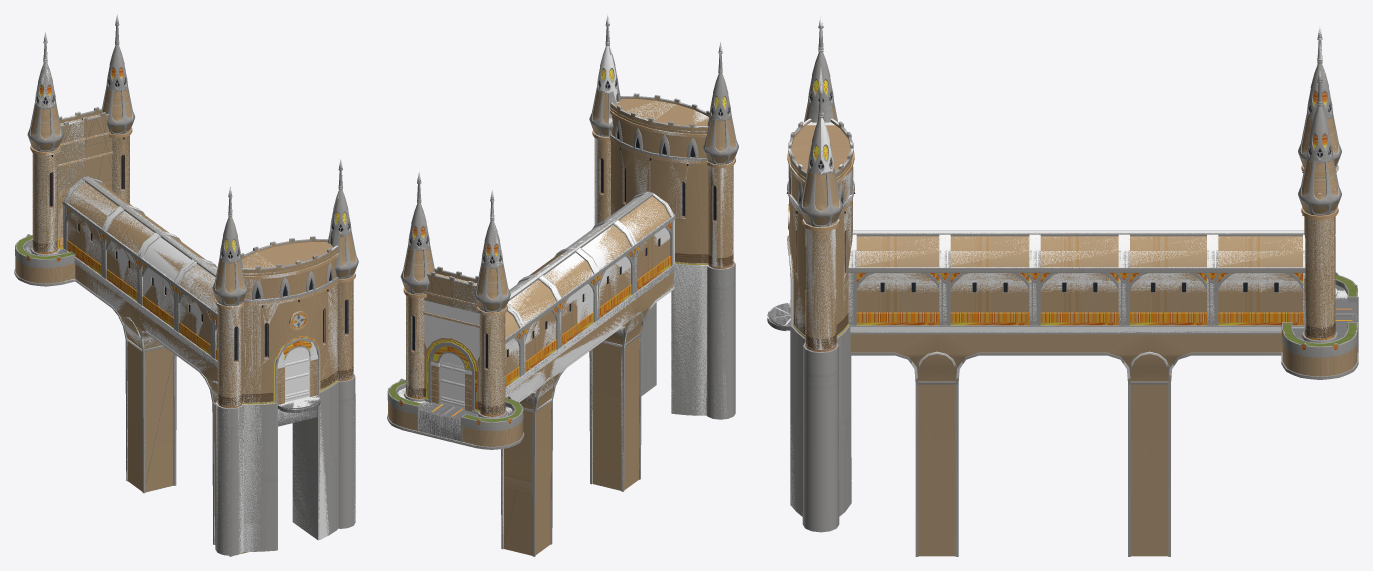
Rendered from objects_un_c01bridgegate02.gltf.
3 renders of one model, left to right at view 1: azimuth 30°, elevation 25°; view 2: azimuth 150°, elevation 25°; view 3: azimuth 270°, elevation 25°, orthographic. The views are drawn at different scales.
Parts seen in each view (by area): view 1: um_objects_un_c01bridgegate02_model_lod0Shape:objects_un_c01 (×7), um_objects_un_c01bridgegate02_model_lod2Shape:objects_un_c01 (×2), um_objects_un_c01bridgegate02_model_lod1Shape:objects_un_c01 (×3); view 2: um_objects_un_c01bridgegate02_model_lod0Shape:objects_un_c01 (×8), um_objects_un_c01bridgegate02_model_lod2Shape:objects_un_c01 (×3), um_objects_un_c01bridgegate02_model_lod1Shape:objects_un_c01 (×4); view 3: um_objects_un_c01bridgegate02_model_lod0Shape:objects_un_c01 (×6), um_objects_un_c01bridgegate02_model_lod2Shape:objects_un_c01 (×2), um_objects_un_c01bridgegate02_model_lod1Shape:objects_un_c01 (×3).
Part boxes in pixels (left/top/right/bottom): um_objects_un_c01bridgegate02_model_lod0Shape:objects_un_c01 (×7): left=14, top=14, right=358, bottom=555; um_objects_un_c01bridgegate02_model_lod2Shape:objects_un_c01 (×2): left=16, top=28, right=350, bottom=556; um_objects_un_c01bridgegate02_model_lod1Shape:objects_un_c01 (×3): left=16, top=65, right=357, bottom=402; um_objects_un_c01bridgegate02_model_lod0Shape:objects_un_c01 (×8): left=387, top=14, right=738, bottom=548; um_objects_un_c01bridgegate02_model_lod2Shape:objects_un_c01 (×3): left=402, top=29, right=730, bottom=556; um_objects_un_c01bridgegate02_model_lod1Shape:objects_un_c01 (×4): left=388, top=67, right=737, bottom=446; um_objects_un_c01bridgegate02_model_lod0Shape:objects_un_c01 (×6): left=767, top=15, right=1358, bottom=532; um_objects_un_c01bridgegate02_model_lod2Shape:objects_un_c01 (×2): left=788, top=37, right=1357, bottom=556; um_objects_un_c01bridgegate02_model_lod1Shape:objects_un_c01 (×3): left=790, top=64, right=1358, bottom=376.
Bounding box in the file's own units: 39.22 × 108 × 116.
Materials: 8 (6 with a texture image).
